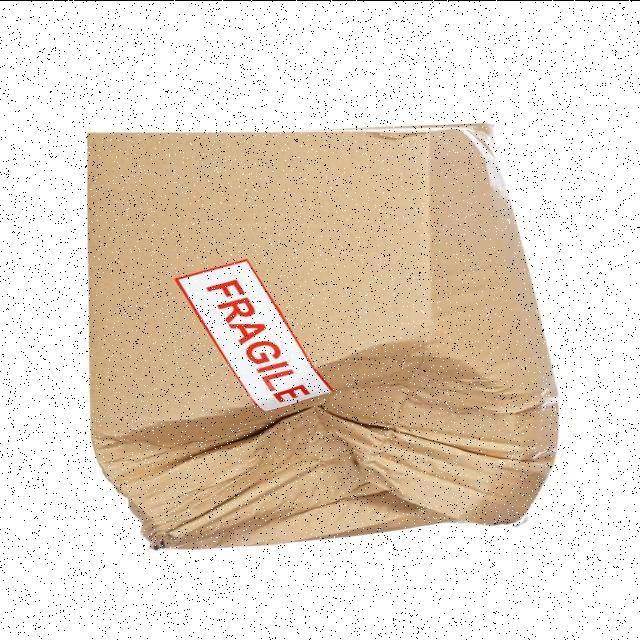defect: (81, 118, 569, 554)
